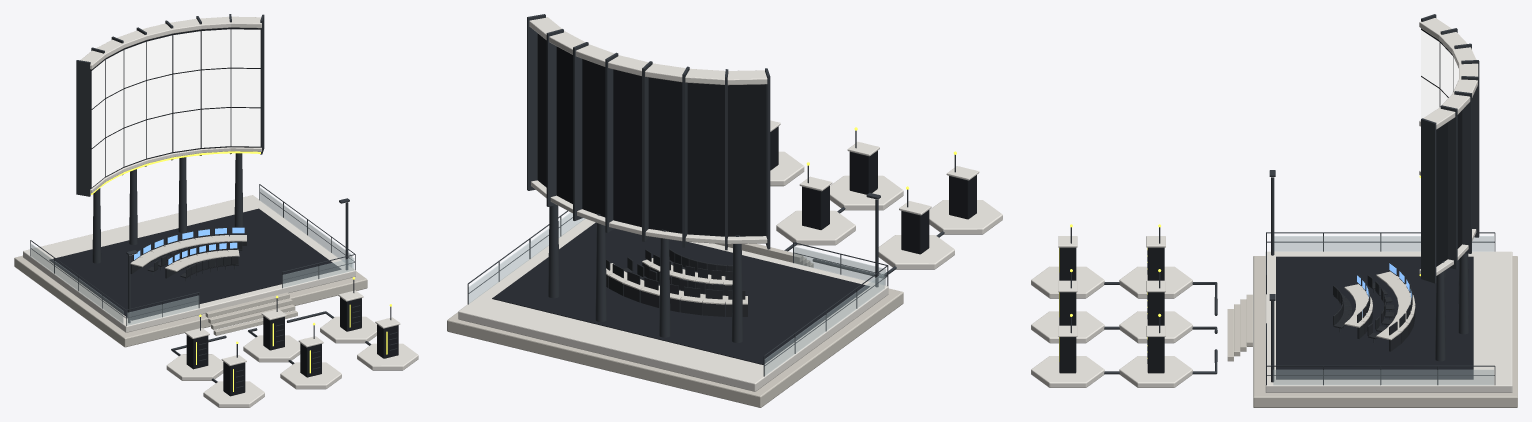
File: command.glb
3 views of the same model, side by side, from view 1: azimuth 30°, elevation 25°; view 2: azimuth 150°, elevation 25°; view 3: azimuth 270°, elevation 25° (orthographic). The views are drawn at different scales.
Parts seen in each view (by area): view 1: command-body, command-screens; view 2: command-body; view 3: command-body, command-screens.
Boxes of the visible parts, x1,y1,x2,y2 form: command-body: [14, 14, 418, 407]; command-screens: [91, 29, 260, 187]; command-body: [447, 14, 1002, 407]; command-body: [1031, 14, 1517, 407]; command-screens: [1421, 30, 1458, 118].
Size of the model in its own units: 19 by 16.8 by 27.59.
